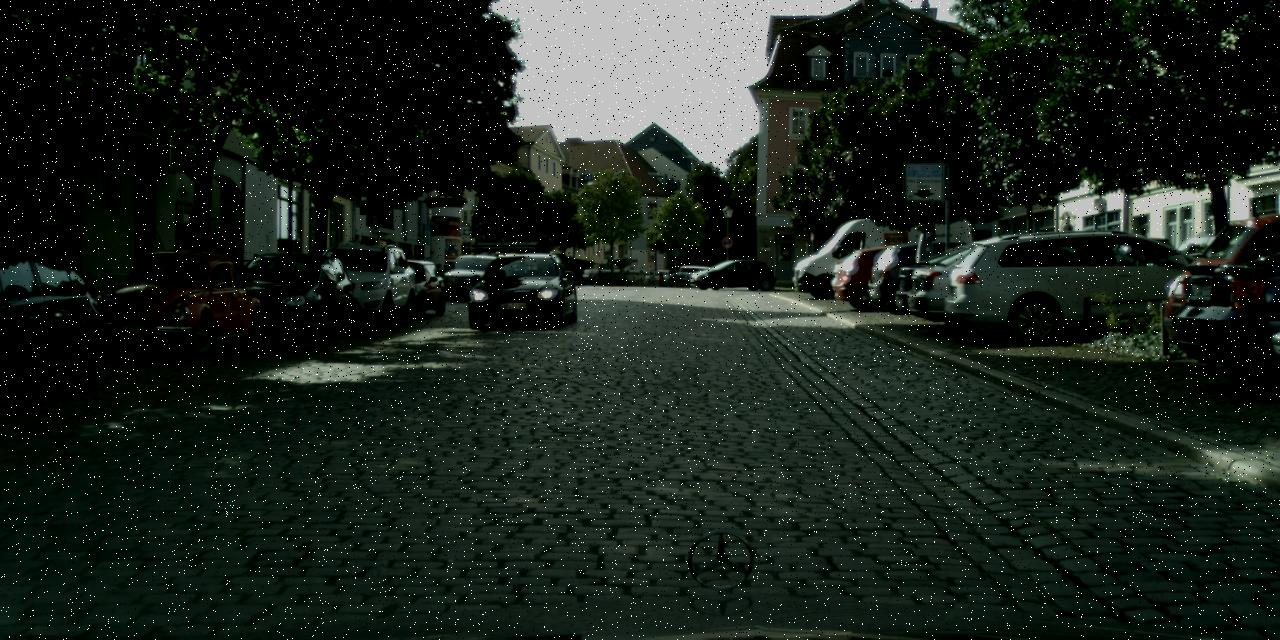ped: (380, 238, 397, 280), (399, 243, 413, 279), (478, 246, 491, 278), (490, 250, 502, 279), (648, 272, 653, 285), (658, 271, 662, 285)
